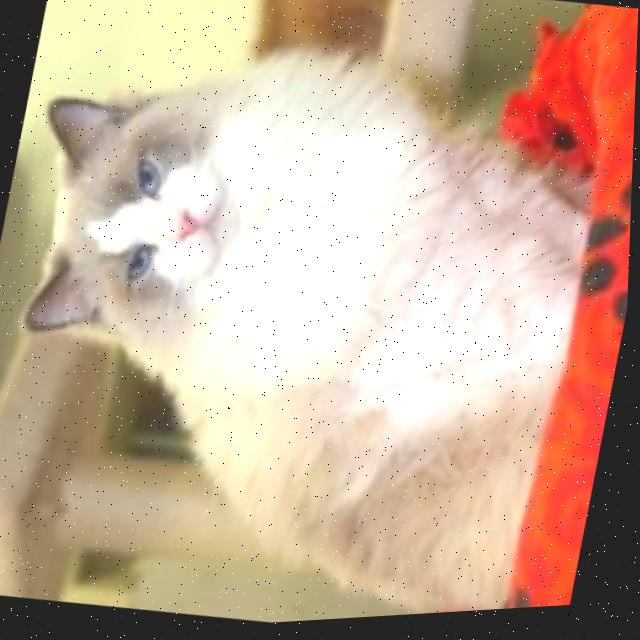Ragdoll: (0, 0, 627, 640)
